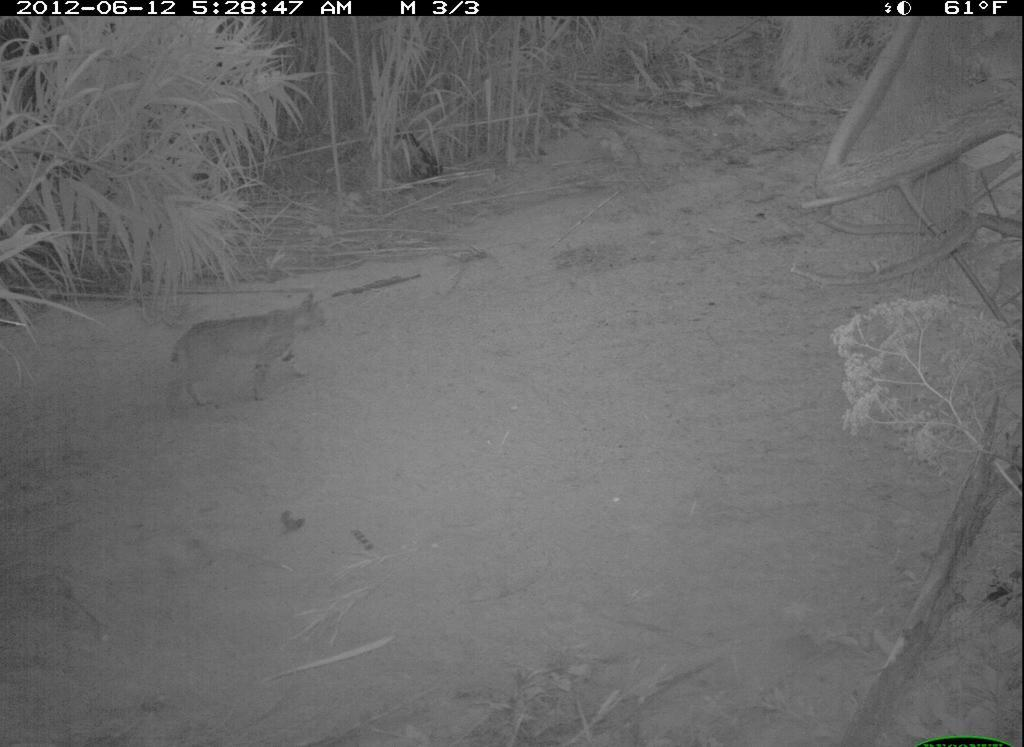bobcat: (154, 287, 332, 418)
